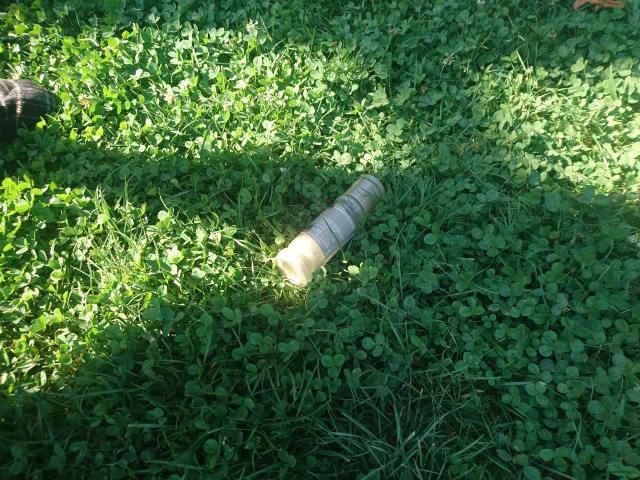Kotanyi Garlic Granules 70g: (272, 171, 388, 290)
